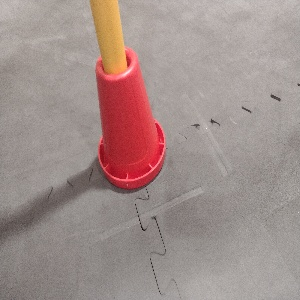Red_1: (92, 44, 167, 191)
